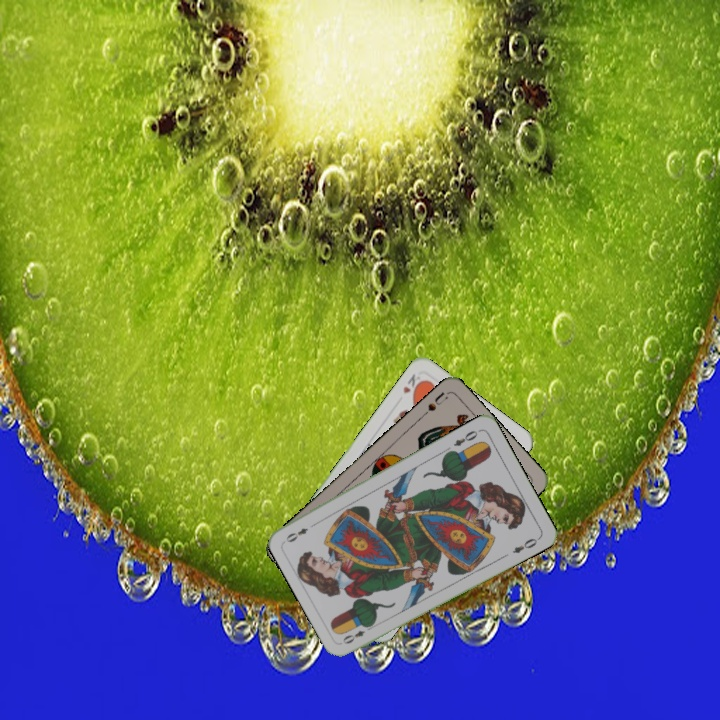EO: (339, 621, 376, 647), (450, 425, 483, 449)
HK: (399, 370, 425, 398)
SU: (418, 388, 448, 420)
